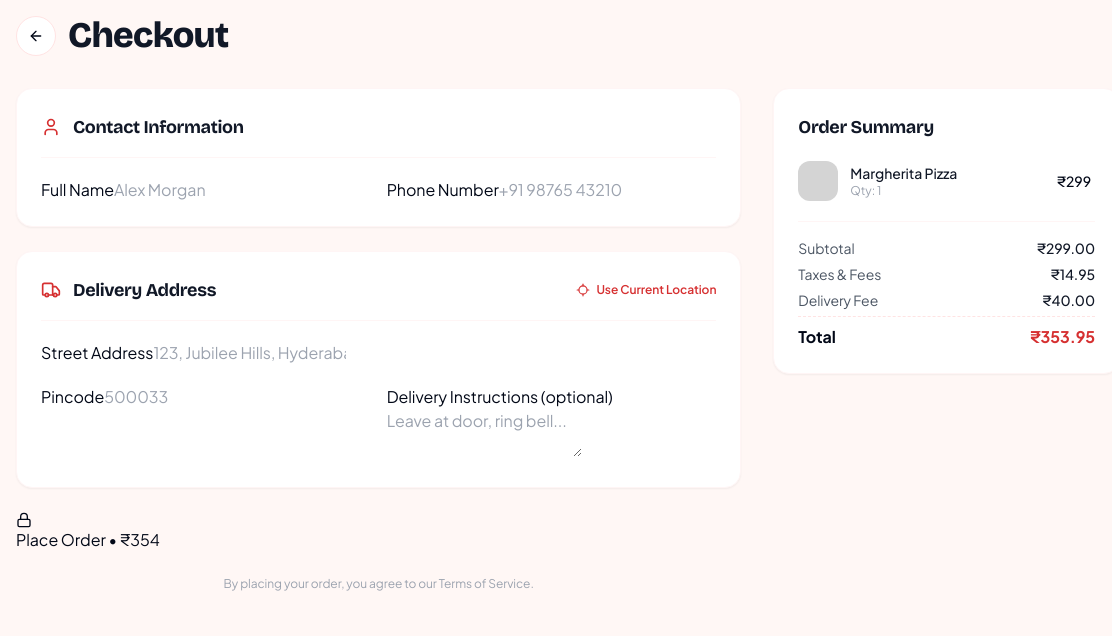
CheckoutPage › shows error under Address when too short
Step 1. Type "short" into the field labelled "Street Address" → (250, 353), box [153,341,346,365]
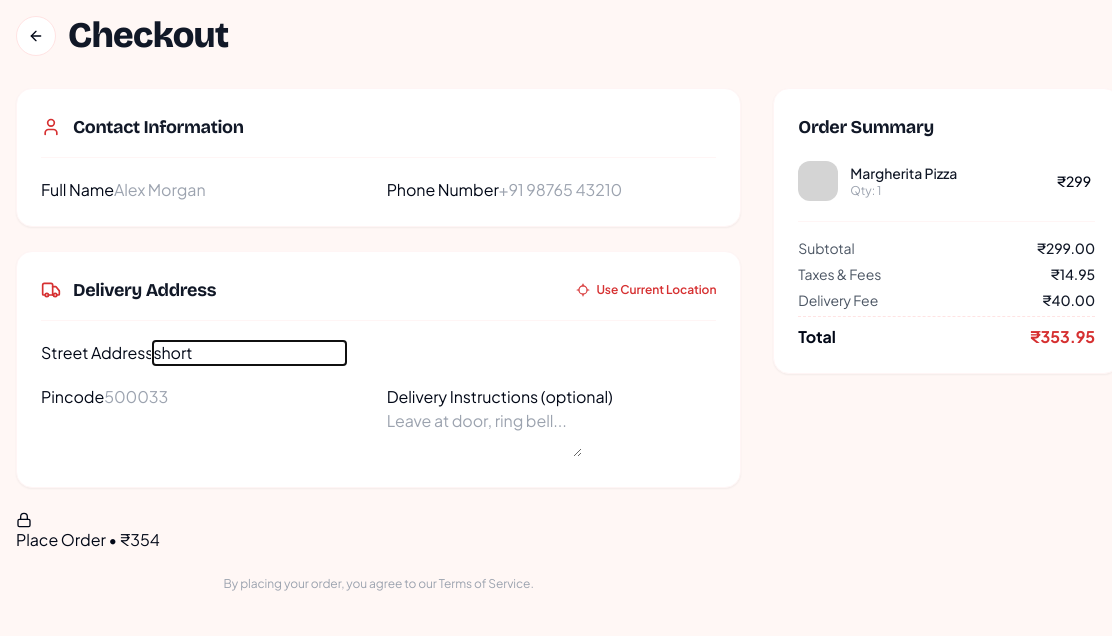
Step 2. Click the button "Place Order • ₹354" → (88, 532), box [16,512,160,552]
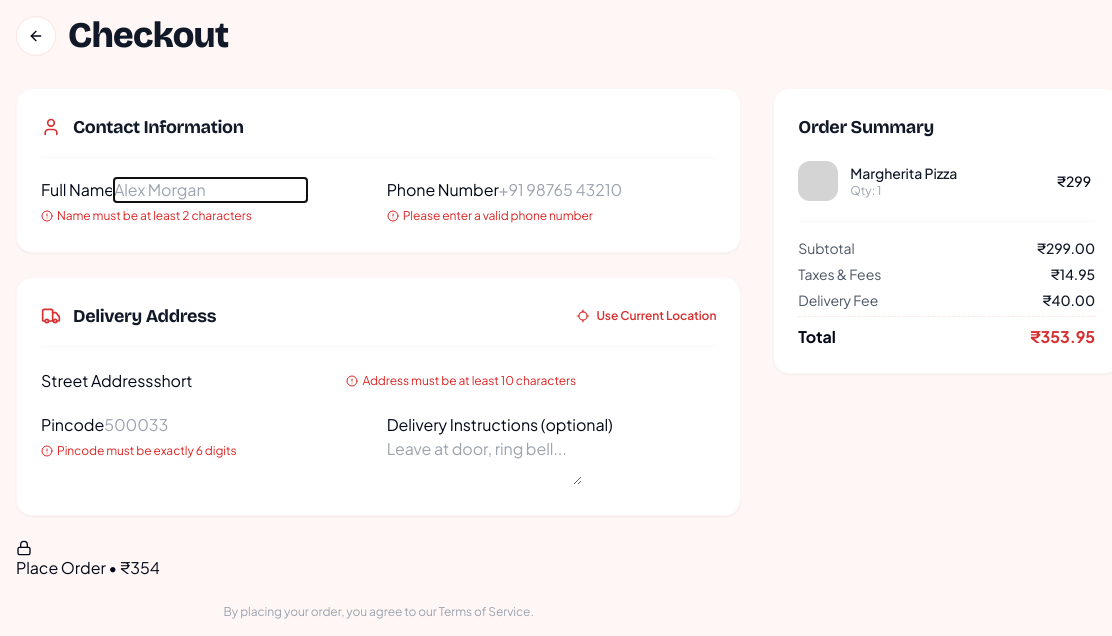
Now the text "Address must be at least 10 characters" is shown, box [346,373,576,389]
